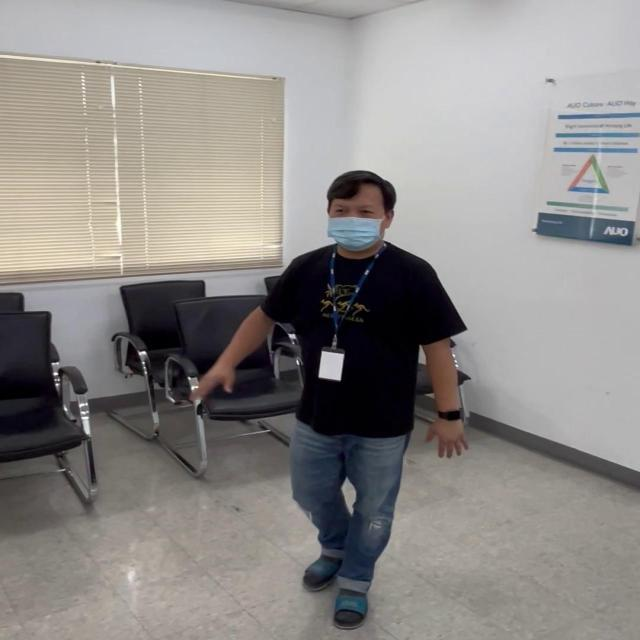bare_hand: (190, 355, 238, 408), (422, 414, 470, 460)
